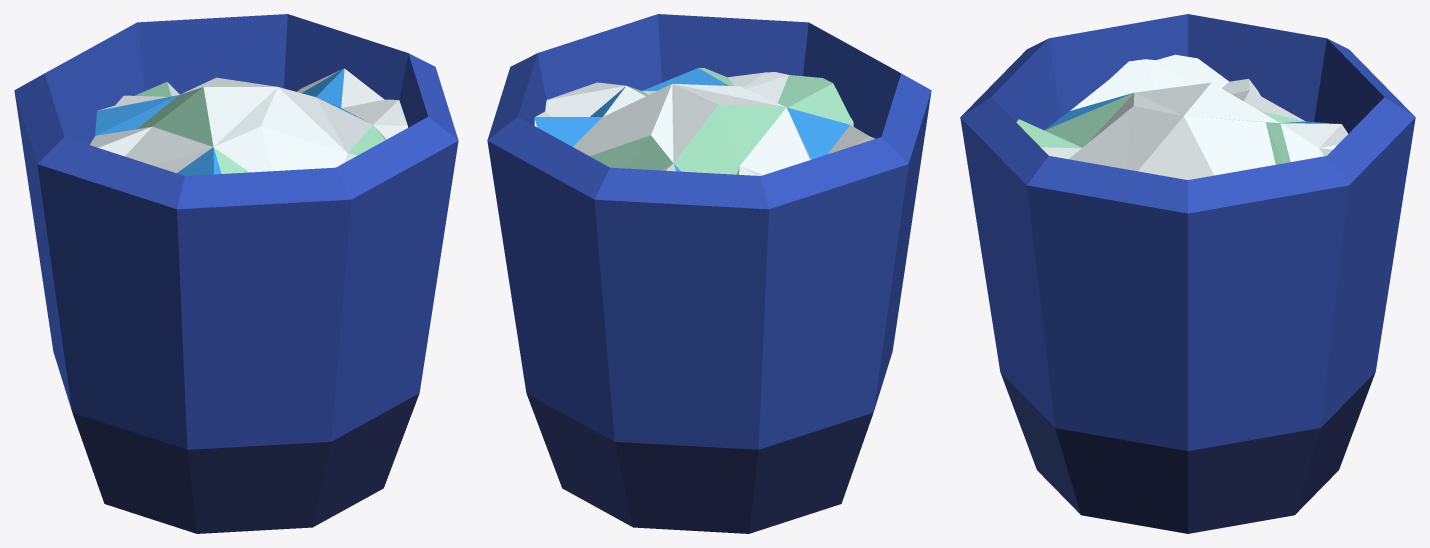
Rendered from RivenRoom_FullTrashCan.fbx.
3 views of the same model, side by side, from view 1: azimuth 30°, elevation 25°; view 2: azimuth 150°, elevation 25°; view 3: azimuth 270°, elevation 25° (orthographic).
Visible parts, largest first — view 1: trash can.001; view 2: trash can.001; view 3: trash can.001.
Boxes of the visible parts, bbox=[...] form: trash can.001: bbox=[14, 14, 458, 533]; trash can.001: bbox=[487, 14, 931, 533]; trash can.001: bbox=[960, 14, 1415, 533].
Size of the model in its own units: 32.12 by 29.37 by 32.12.
